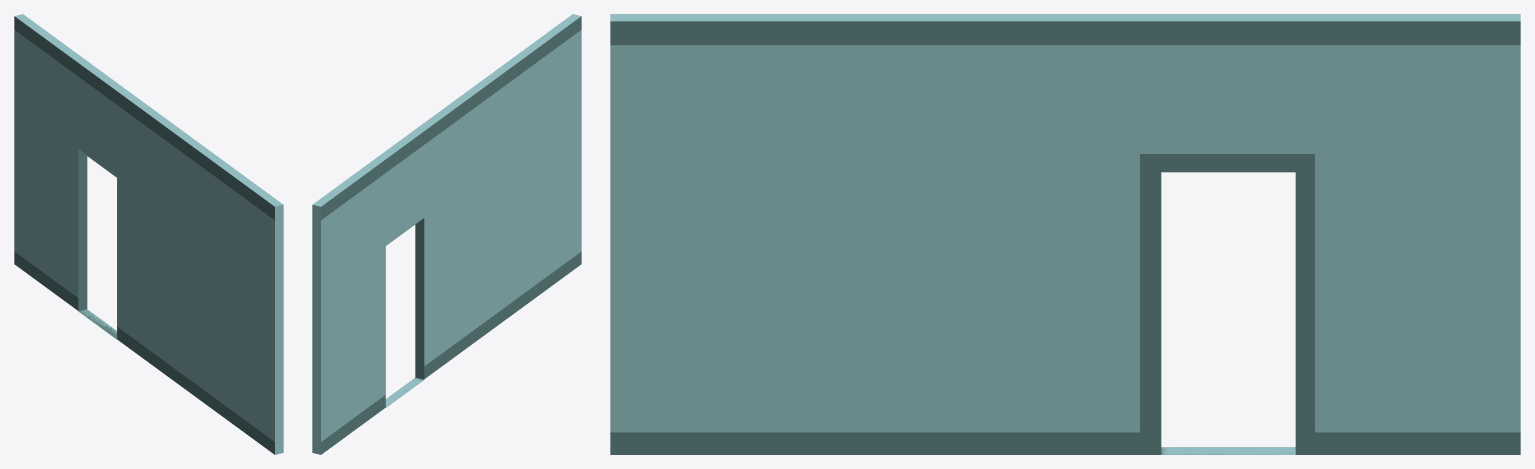
The model's file is paredSalaIzq.obj.
3 renders of one model, left to right at view 1: azimuth 30°, elevation 25°; view 2: azimuth 150°, elevation 25°; view 3: azimuth 270°, elevation 25°, orthographic. The views are drawn at different scales.
Parts seen in each view (by area): view 1: pCube26; view 2: pCube26; view 3: pCube26.
Boxes of the visible parts, x1=… form: pCube26: x1=14, y1=14, x2=283, y2=454; pCube26: x1=312, y1=14, x2=581, y2=454; pCube26: x1=610, y1=14, x2=1520, y2=454.
Bounding box in the file's own units: 0.1085 × 2.85 × 5.43.
Materials: 1 (1 with a texture image).
